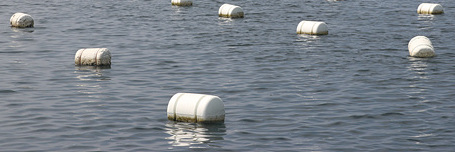buoy: (165, 88, 225, 125), (72, 43, 111, 70), (407, 34, 435, 57), (8, 8, 34, 30), (295, 19, 328, 36), (217, 2, 245, 21), (415, 1, 445, 15)
